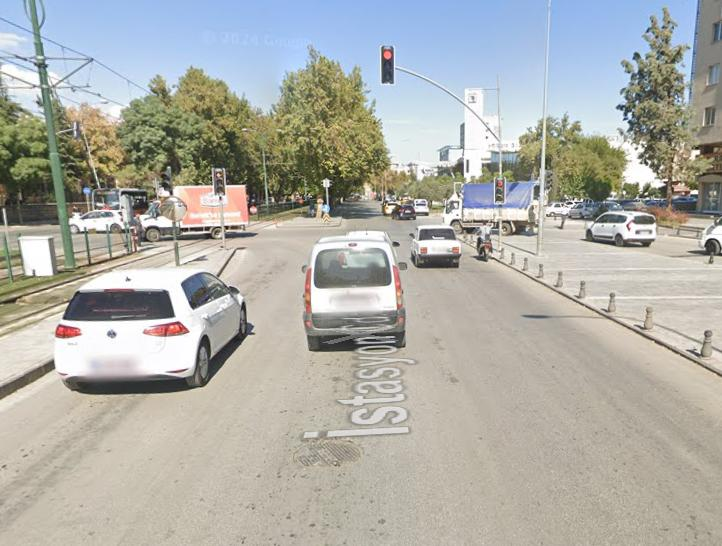redlight: (381, 44, 396, 83), (212, 166, 225, 199), (494, 175, 506, 206)
